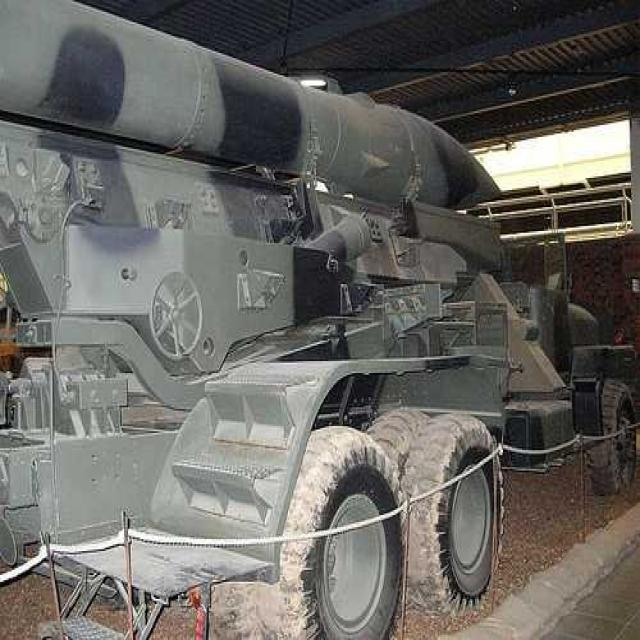missile: (0, 0, 511, 220)
